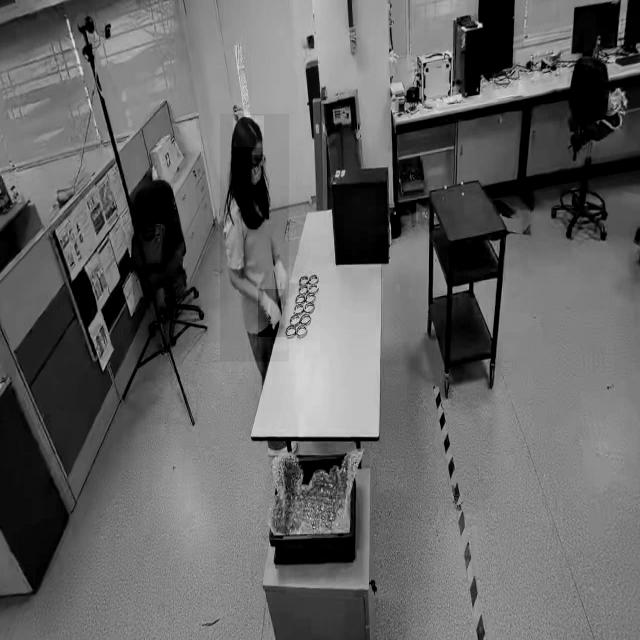face_mask: (247, 155, 265, 191)
hand_glove: (258, 289, 286, 338), (274, 260, 289, 306)
head_nohelmet: (232, 115, 264, 148)
person: (219, 114, 289, 362)
